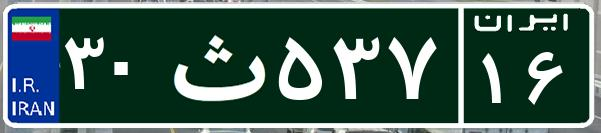0: (110, 28, 158, 105)
1: (475, 38, 525, 113)
3: (330, 28, 385, 110), (57, 26, 110, 107)
5: (273, 28, 330, 110)
6: (525, 38, 570, 115)
7: (385, 28, 445, 110)
ث: (158, 15, 273, 115)
